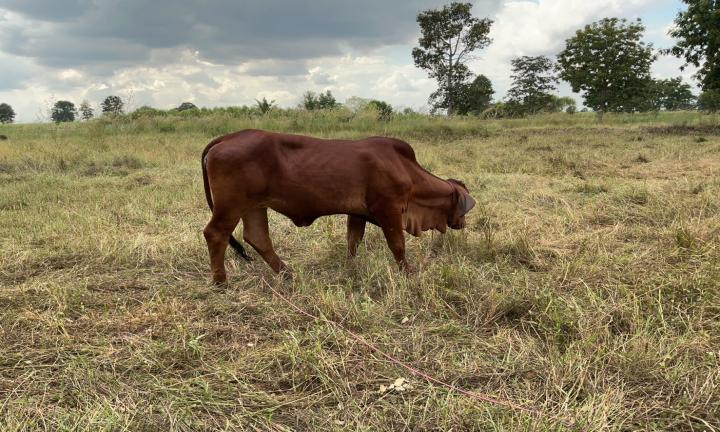Brahman: (201, 129, 475, 282)
